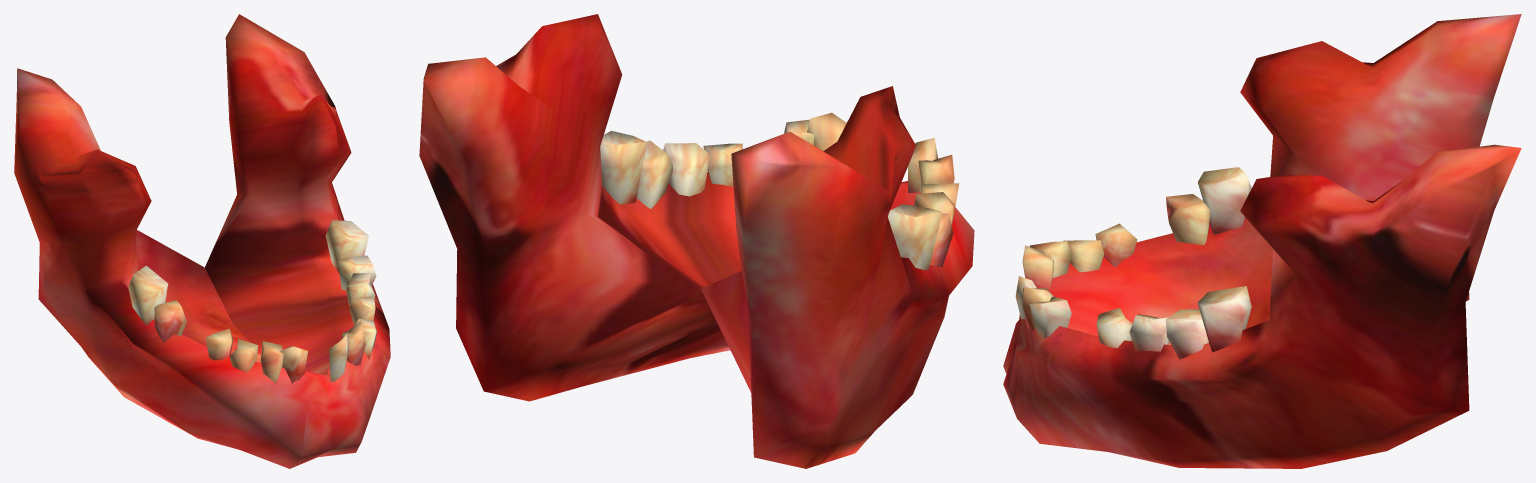
Rendered from male_jawbone.fbx.
3 renders of one model, left to right at view 1: azimuth 30°, elevation 25°; view 2: azimuth 150°, elevation 25°; view 3: azimuth 270°, elevation 25°, orthographic. The views are drawn at different scales.
Parts seen in each view (by area): view 1: jawbone; view 2: jawbone; view 3: jawbone.
Part boxes in pixels (x1,y1,x2,y2): jawbone: (14, 14, 390, 468); jawbone: (419, 14, 974, 468); jawbone: (1003, 14, 1521, 468).
Size of the model in its own units: 0.1224 by 0.1104 by 0.1501.
